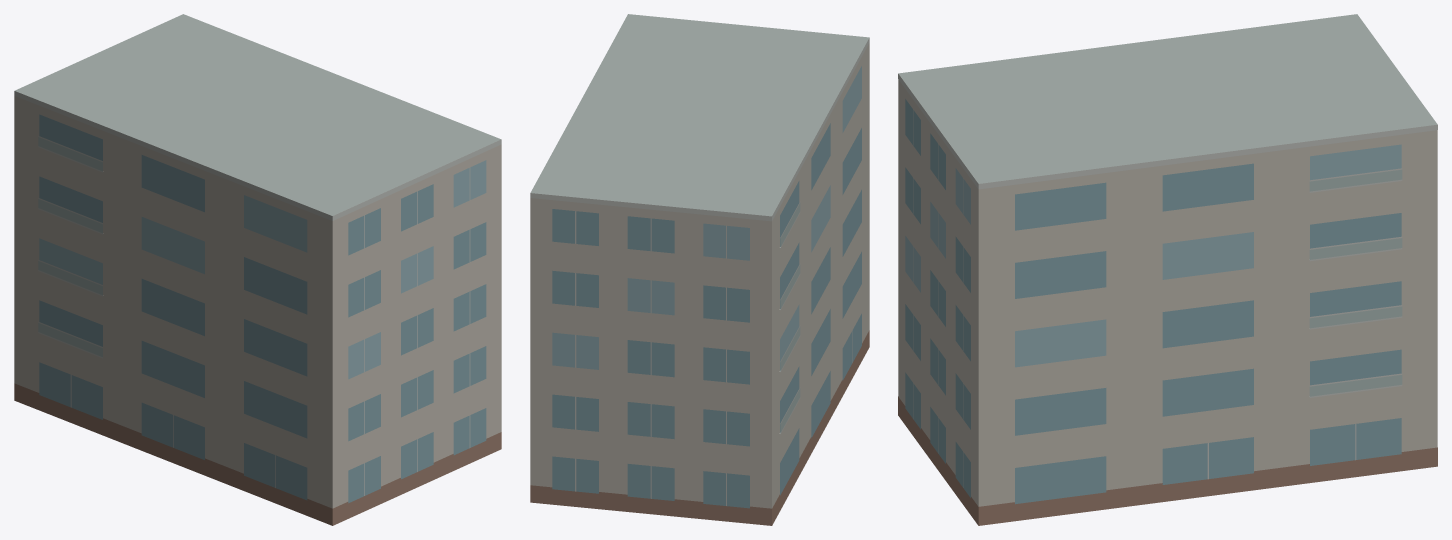
Rendered from survey-upis-32752206.glb.
3 views of the same model, side by side, from view 1: azimuth 30°, elevation 25°; view 2: azimuth 150°, elevation 25°; view 3: azimuth 270°, elevation 25° (orthographic). The views are drawn at different scales.
Parts seen in each view (by area): view 1: survey-upis-32752206.tmp; view 2: survey-upis-32752206.tmp; view 3: survey-upis-32752206.tmp.
Boxes of the visible parts, x1,y1,x2,y2 form: survey-upis-32752206.tmp: [14, 14, 501, 525]; survey-upis-32752206.tmp: [530, 14, 869, 525]; survey-upis-32752206.tmp: [898, 14, 1437, 525].
Bounding box in the file's own units: 16.27 × 15.25 × 21.83.
